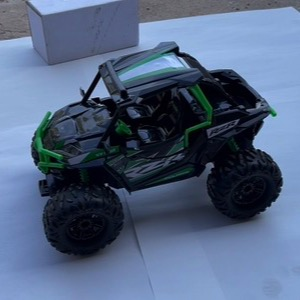polaris: (31, 41, 284, 260)
